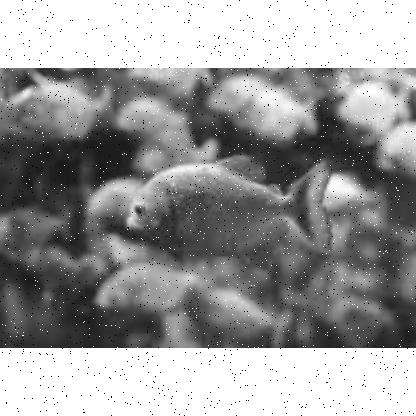ikan-pacu: (122, 158, 332, 256), (93, 260, 199, 316)
